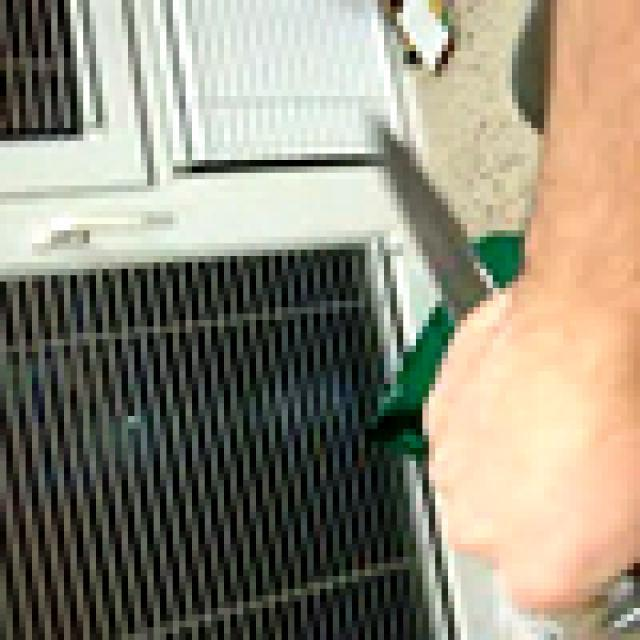Knife: (346, 102, 500, 365)
